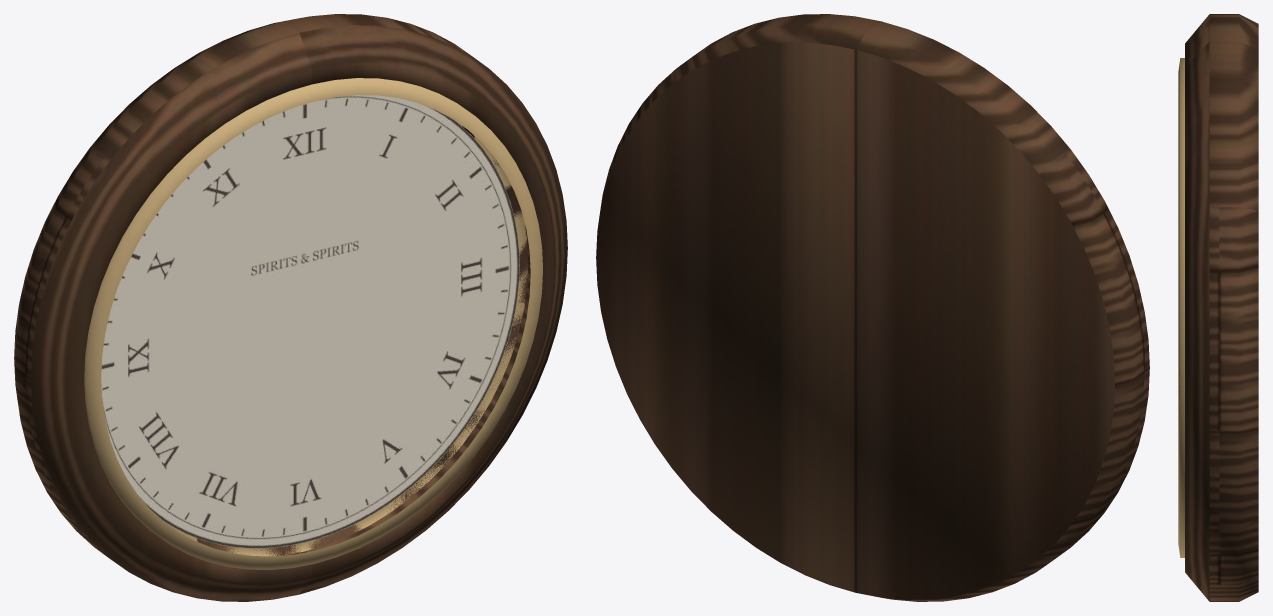
The model's file is relogio.glb.
The picture shows the model from 3 angles, left to right: view 1: azimuth 30°, elevation 25°; view 2: azimuth 150°, elevation 25°; view 3: azimuth 270°, elevation 25°; orthographic projection. The views are drawn at different scales.
Visible parts, largest first — view 1: relogio_mostrador, relogio_caixa, relogio_aro; view 2: relogio_caixa; view 3: relogio_caixa, relogio_aro.
Part boxes in pixels (x1,y1,x2,y2): relogio_mostrador: (101, 95, 519, 548); relogio_caixa: (14, 14, 567, 601); relogio_aro: (84, 78, 542, 569); relogio_caixa: (596, 14, 1149, 601); relogio_caixa: (1185, 14, 1258, 601); relogio_aro: (1178, 58, 1184, 557).
Size of the model in its own units: 0.6 by 0.6 by 0.082.
3 materials, 2 textured.
